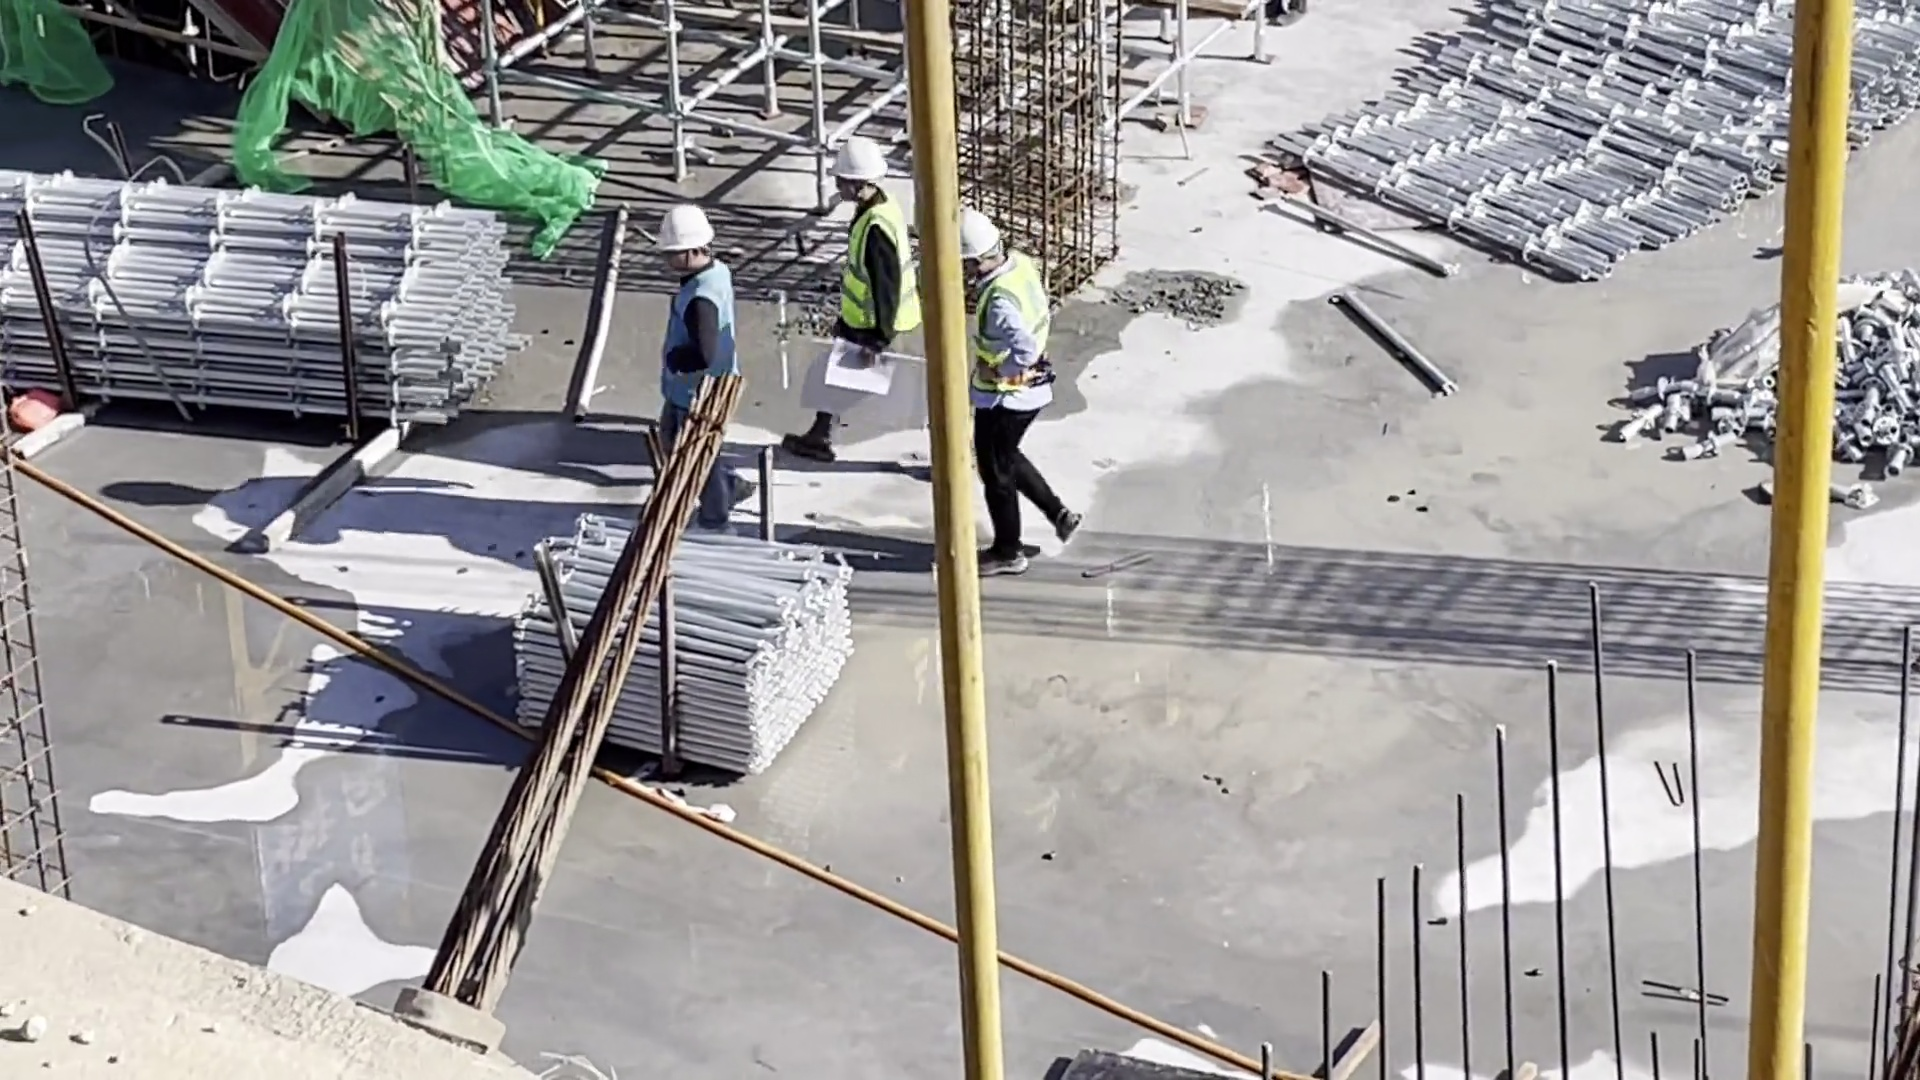helmet: (653, 206, 714, 252), (827, 137, 888, 179), (960, 205, 1000, 259)
person: (959, 204, 1087, 576), (779, 135, 921, 466), (652, 201, 758, 541)
scaffold: (1, 172, 509, 430), (519, 513, 852, 779)
vest: (840, 188, 920, 332), (971, 254, 1051, 395), (662, 263, 737, 409)
